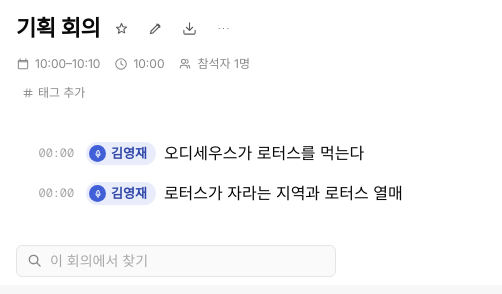
Test: 매칭이 없으면 이동 버튼이 비활성이다
Type "없는단어" into the search field labelled "이 회의에서 찾기".
click(188, 261); type("없는단어")  # box [50, 250, 327, 271]
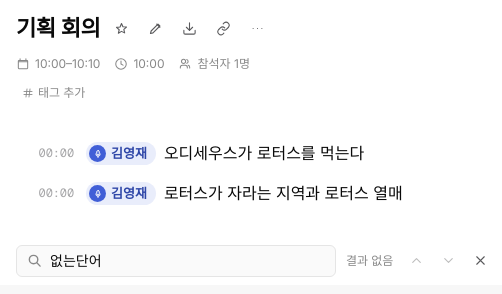
Check: the button named "다음 결과" is disabled, box [435, 248, 461, 274]
Check: the button named "이전 결과" is disabled, box [403, 248, 429, 274]
